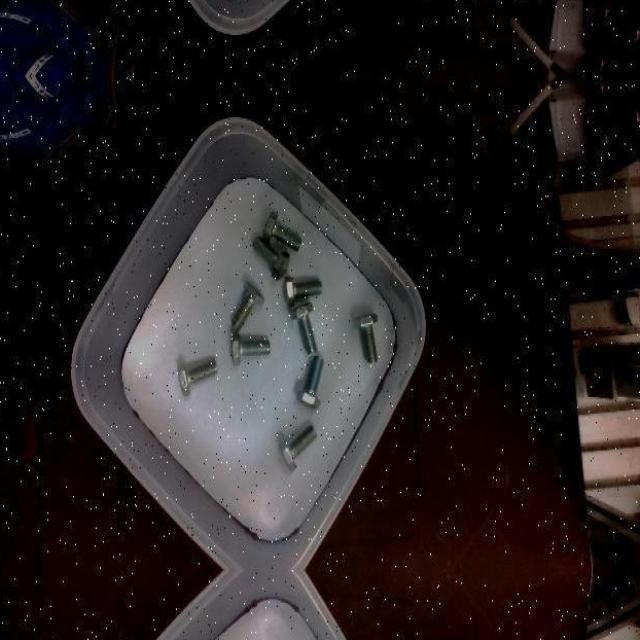screw: (280, 425, 319, 472), (232, 280, 266, 331), (252, 236, 290, 279), (264, 211, 302, 252), (296, 356, 324, 410), (290, 302, 318, 354), (178, 361, 218, 396), (354, 313, 378, 364), (232, 334, 270, 366), (284, 275, 323, 305)
